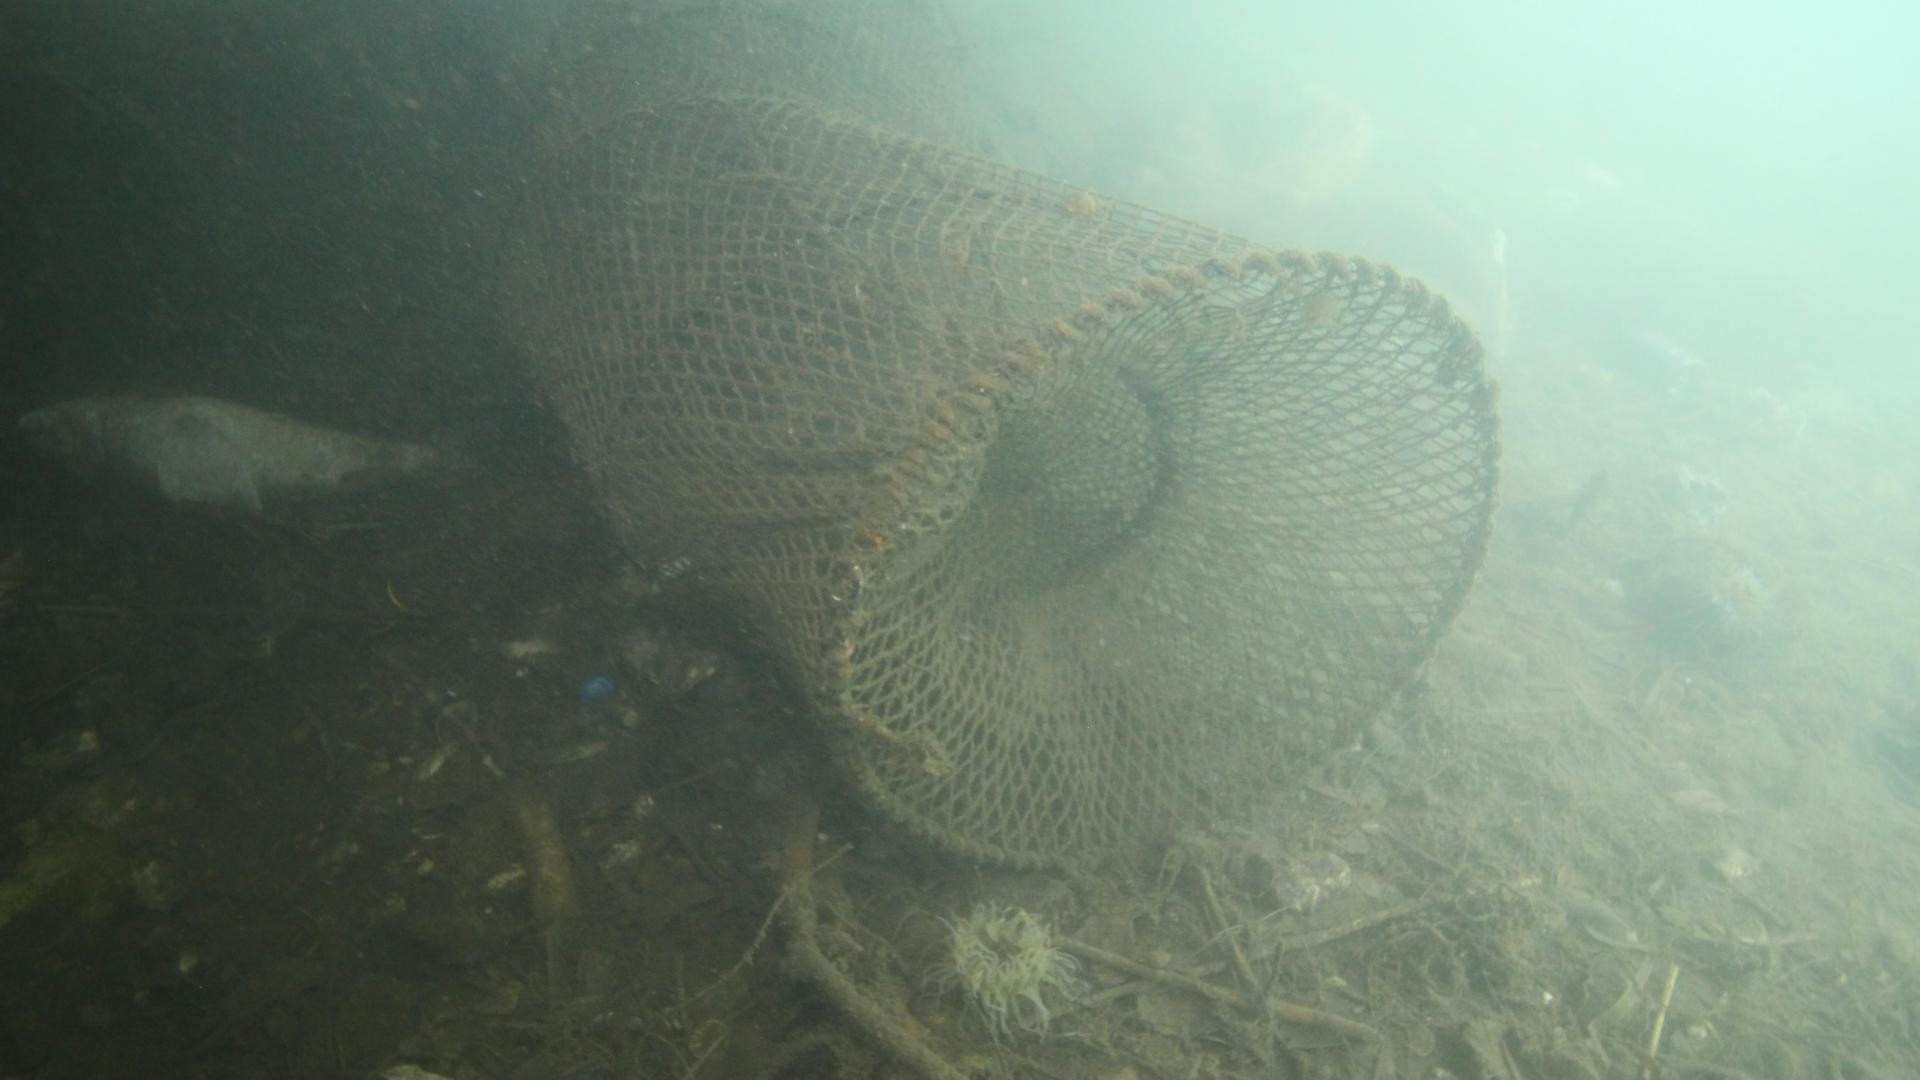spring fish trap: (498, 12, 1501, 876)
